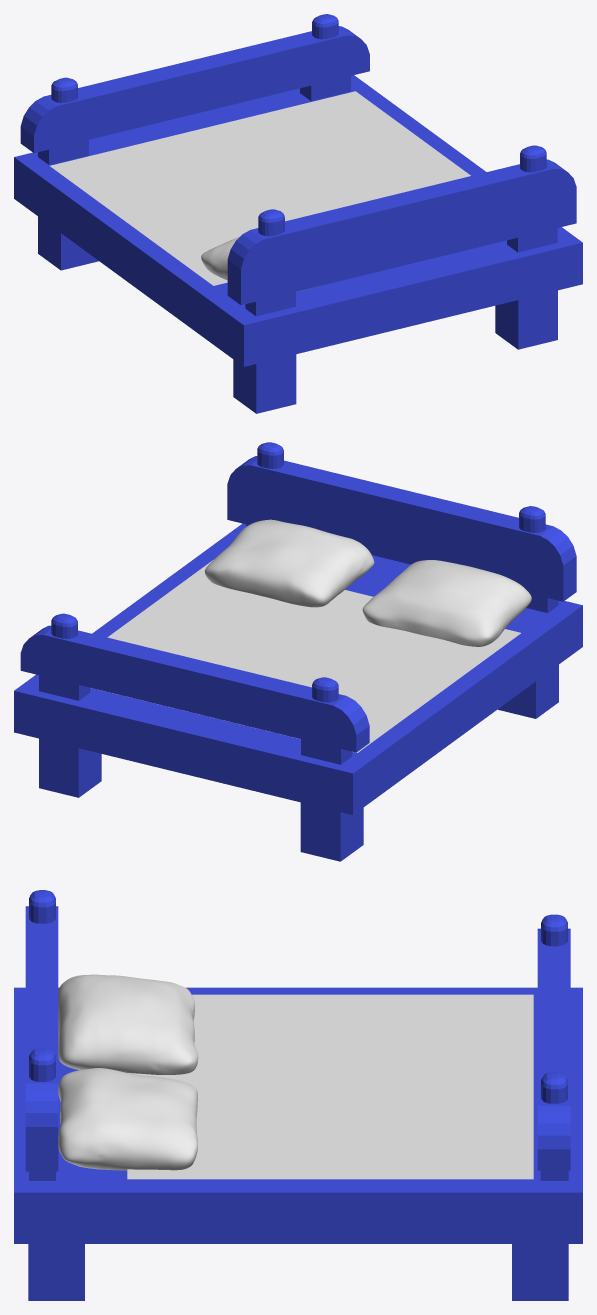
The model's file is bedbig_m1h_joined2.fbx.
The picture shows the model from 3 angles, top to bottom: view 1: azimuth 30°, elevation 25°; view 2: azimuth 150°, elevation 25°; view 3: azimuth 270°, elevation 25°; orthographic projection. The views are drawn at different scales.
Visible parts, largest first — view 1: Cube.019; view 2: Cube.019; view 3: Cube.019.
Boxes of the visible parts, x1,y1,x2,y2 form: Cube.019: (14,14,582,413); Cube.019: (14,442,582,861); Cube.019: (14,890,582,1300).
Size of the model in its own units: 2.95 by 1.6 by 3.46.
